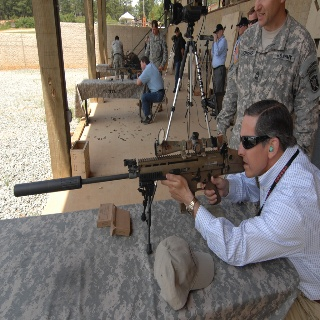rifle: (13, 131, 250, 253)
